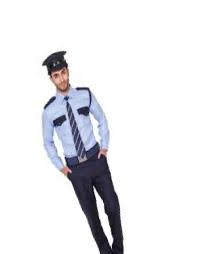uniform: (12, 47, 156, 253)
